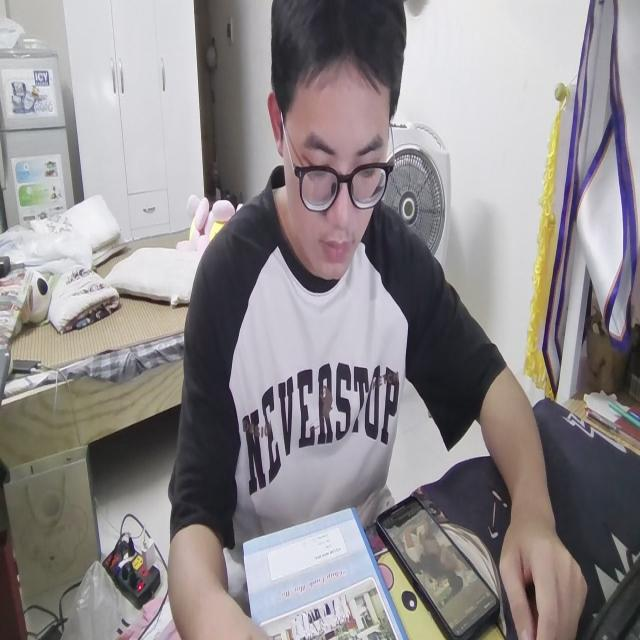book: (240, 501, 399, 640)
phone: (374, 493, 496, 640)
student: (168, 0, 588, 640)
